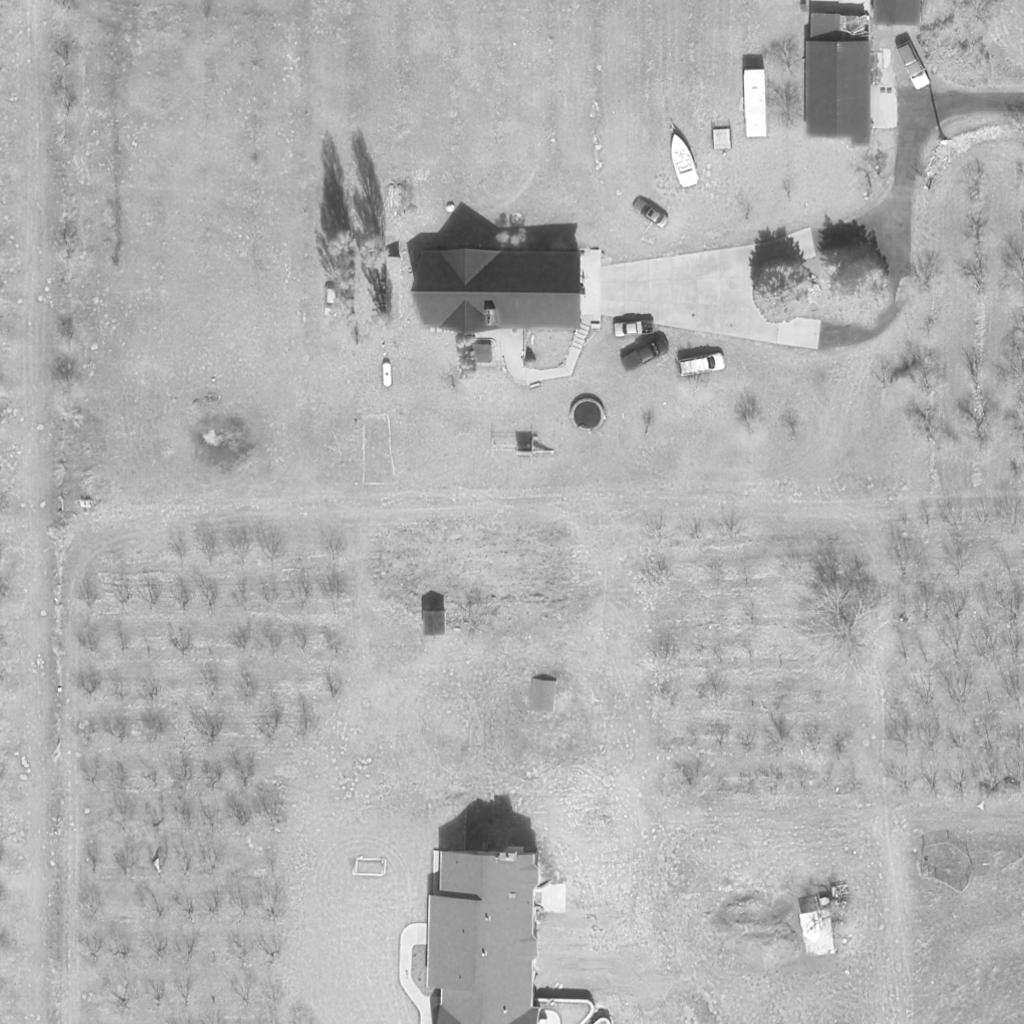vehicle: (663, 131, 701, 187), (894, 40, 934, 92), (742, 69, 770, 139), (618, 338, 670, 370), (632, 196, 672, 230), (677, 354, 727, 376), (613, 320, 655, 336), (323, 282, 339, 318)
